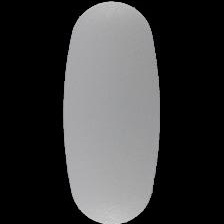50436-0172: (0, 0, 224, 224)
